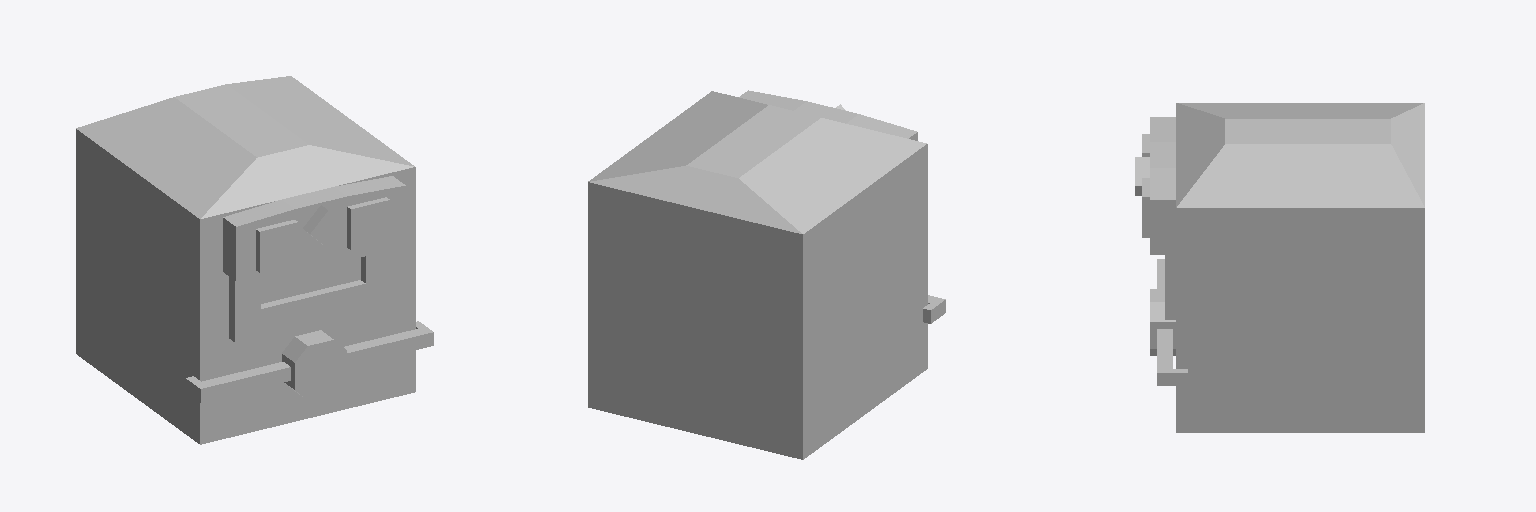
File: envirosuit_helmet_WIP.obj
3 views of the same model, side by side, from view 1: azimuth 30°, elevation 25°; view 2: azimuth 150°, elevation 25°; view 3: azimuth 270°, elevation 25° (orthographic).
Visible parts, largest first — view 1: Helmet_Cube.014, NVG_Cube.016, Rebreather_Cube.017; view 2: Helmet_Cube.014, NVG_Cube.016; view 3: Helmet_Cube.014, NVG_Cube.016, Rebreather_Cube.017.
Boxes of the visible parts, <box> form: Helmet_Cube.014: <box>76,76,415,444</box>; NVG_Cube.016: <box>223,176,405,281</box>; Rebreather_Cube.017: <box>185,321,433,402</box>; Helmet_Cube.014: <box>588,91,927,459</box>; NVG_Cube.016: <box>739,90,917,140</box>; Helmet_Cube.014: <box>1165,103,1424,432</box>; NVG_Cube.016: <box>1135,117,1175,254</box>; Rebreather_Cube.017: <box>1150,259,1187,385</box>.
Bounding box in the file's own units: 1.12 × 1.14 × 1.2.